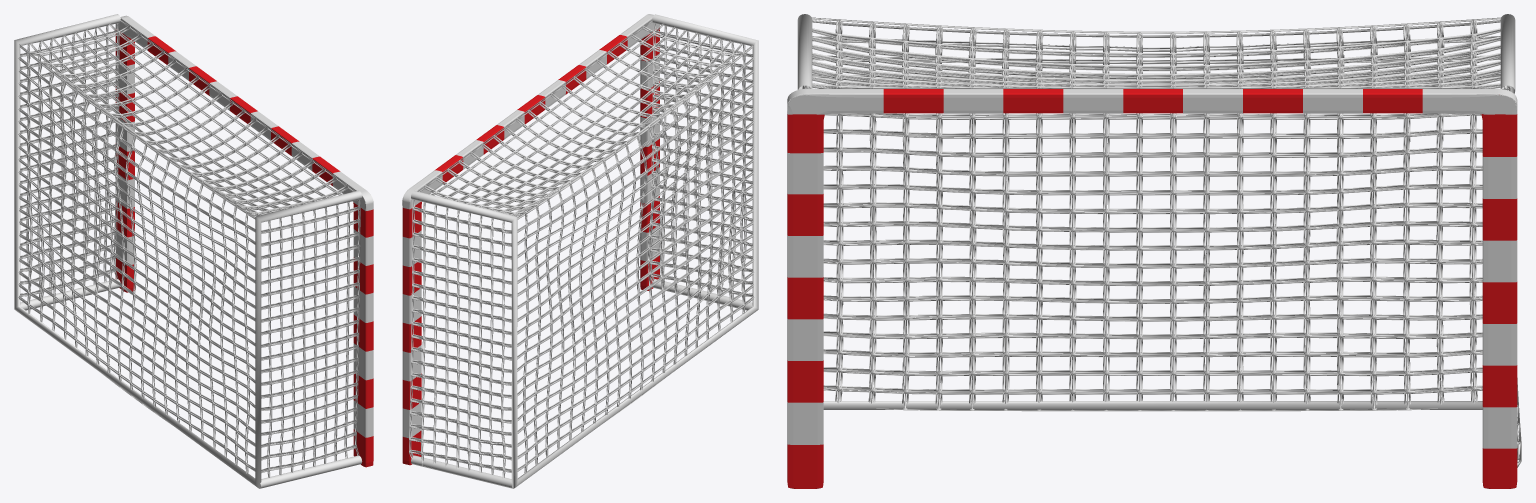
Rendered from goal1.glb.
3 views of the same model, side by side, from view 1: azimuth 30°, elevation 25°; view 2: azimuth 150°, elevation 25°; view 3: azimuth 270°, elevation 25° (orthographic). The views are drawn at different scales.
Visible parts, largest first — view 1: Cube.006, Cube.002, Cube.007; view 2: Cube.006, Cube.002, Cube.007; view 3: Cube.006, Cube.002, Cube.007.
Boxes of the visible parts, x1,y1,x2,y2 form: Cube.006: (18,19,360,477); Cube.002: (115,15,373,467); Cube.007: (14,14,362,488); Cube.006: (409,19,754,478); Cube.002: (402,14,659,465); Cube.007: (411,14,758,488); Cube.006: (802,17,1521,467); Cube.002: (787,88,1517,488); Cube.007: (797,14,1515,409).
Size of the model in its own units: 95.19 by 214 by 358.
